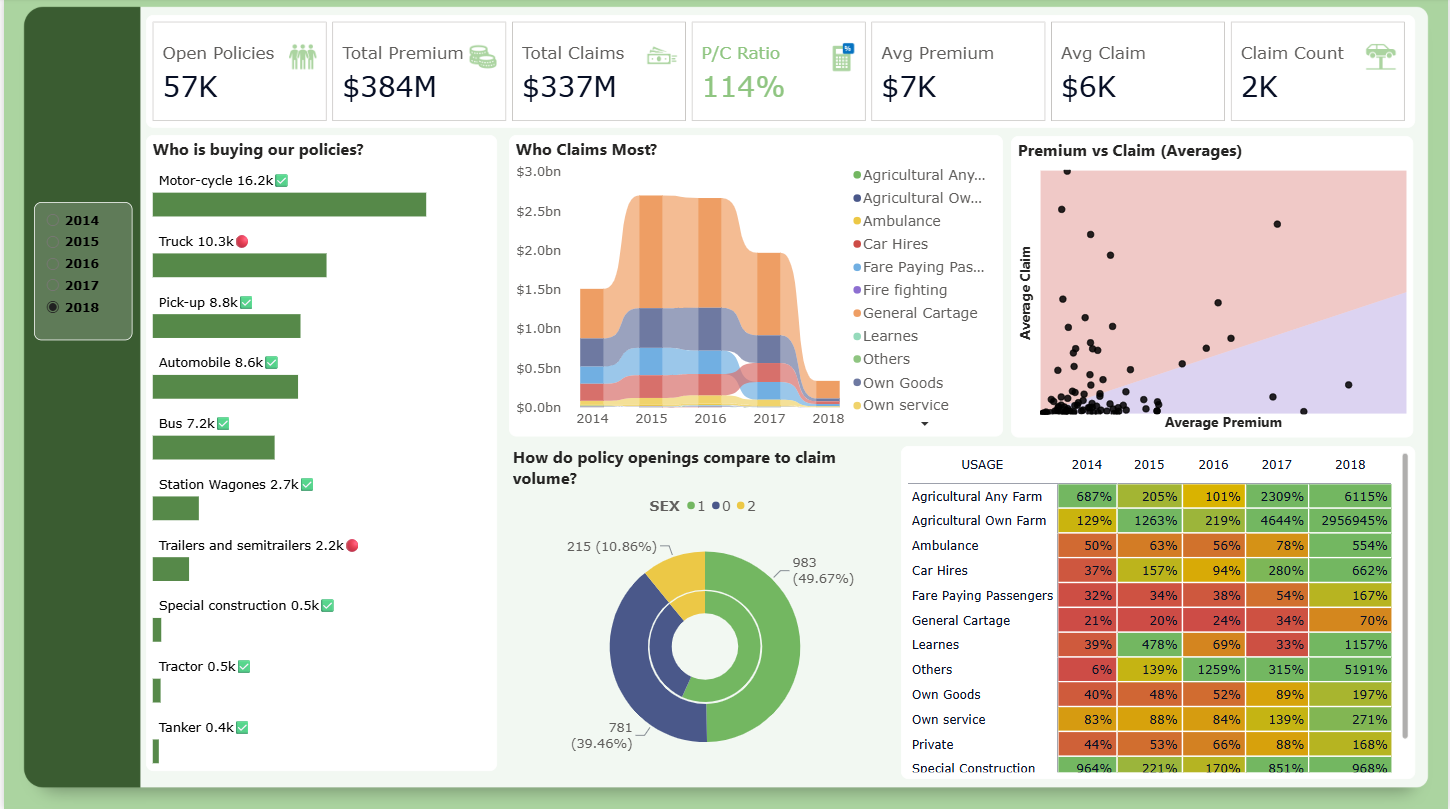

What the dashboard file says about the page in this screenshot:
{"tool":"powerbi","page":{"name":"Page 1","canvas":[1920,1080],"ordinal":0},"visuals":[{"type":"donutChart","title":"How do policy openings compare to claim volume?","fields":{"Category":["policies.SEX"],"Y":["policies.Claim Count"]},"box":[671.7,595.9,521.4,442.9],"z":0},{"type":"donutChart","fields":{"Category":["policies.SEX"],"Y":["policies.Policies Opened"]},"box":[835.3,756.8,194.2,211.5],"z":1000},{"type":"cardVisual","fields":{"Data":["policies.Policies Opened","policies.Total Premium","policies.Total Claims","policies.Premium to Claims Ratio","policies.Avg. Premium","policies.Avg. Claim2","policies.Claim Count"]},"box":[188.9,22.6,1688,150.3],"z":2000},{"type":"slicer","fields":{"Values":["calendar.Year"]},"box":[39.9,271.3,131.3,183.8],"z":3000},{"type":"clusteredBarChart","title":"Who is buying our policies?","fields":{"Category":["policies.TYPE_VEHICLE"],"Y":["policies.Dummy series","policies.Policies Opened"]},"box":[188.9,182.2,466.8,845.9],"z":4000},{"type":"ribbonChart","title":"Who Claims Most?","fields":{"Category":["calendar.Year"],"Y":["policies.Total Claims"],"Series":["policies.USAGE"]},"box":[671.7,182.2,656.5,401.2],"z":5000},{"type":"scatterChart","title":"Premium vs Claim (Averages)","fields":{"Y":["policies.Avg. Claim2"],"X":["policies.Avg. Premium"],"Category":["policies.TYPE_VEHICLE","policies.MAKE"]},"box":[1339.4,183.5,535.4,401.2],"z":6000},{"type":"pivotTable","fields":{"Rows":["policies.USAGE"],"Columns":["calendar.Year"],"Values":["policies.Premium to Claims Ratio"]},"box":[1193.1,595.9,683.6,442.9],"z":7000}]}

Visuals, with their boxes in screenshot pixels (x1, y1, x2, y2), scaled from the page's 1920x1080 canvas onto the 1450x809 screenshot:
"How do policy openings compare to claim volume?" donutChart: (507,446,901,778)
donutChart - policies.SEX x policies.Policies Opened: (631,567,777,725)
cardVisual - policies.Policies Opened x policies.Total Premium: (143,17,1417,130)
slicer - calendar.Year: (30,203,129,341)
"Who is buying our policies?" clusteredBarChart: (143,136,495,770)
"Who Claims Most?" ribbonChart: (507,136,1003,437)
"Premium vs Claim (Averages)" scatterChart: (1012,137,1416,438)
pivotTable - policies.USAGE x calendar.Year: (901,446,1417,778)
